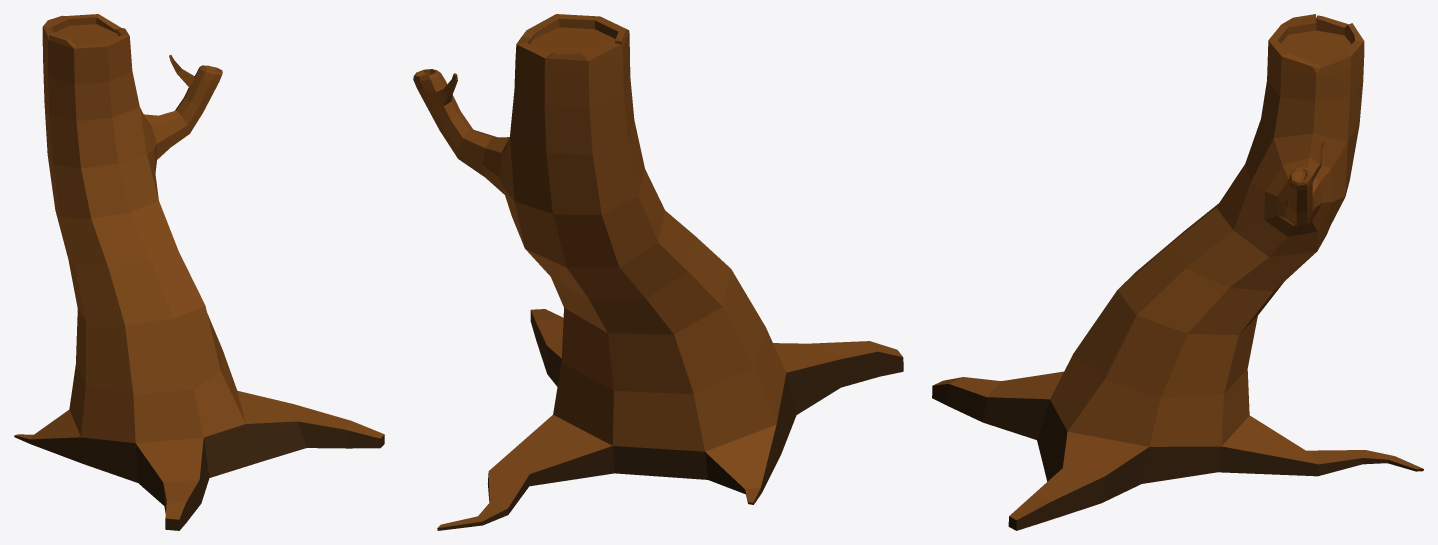
Rendered from tree01.glb.
The picture shows the model from 3 angles, left to right: view 1: azimuth 30°, elevation 25°; view 2: azimuth 150°, elevation 25°; view 3: azimuth 270°, elevation 25°; orthographic projection. The views are drawn at different scales.
Parts seen in each view (by area): view 1: Cube; view 2: Cube; view 3: Cube.
Boxes of the visible parts, box(x1,y1,x2,y2) form: Cube: box(14, 14, 384, 530); Cube: box(413, 14, 903, 530); Cube: box(932, 14, 1423, 530).
Size of the model in its own units: 4.33 by 5.53 by 6.06.
Materials: 1 (1 with a texture image).
